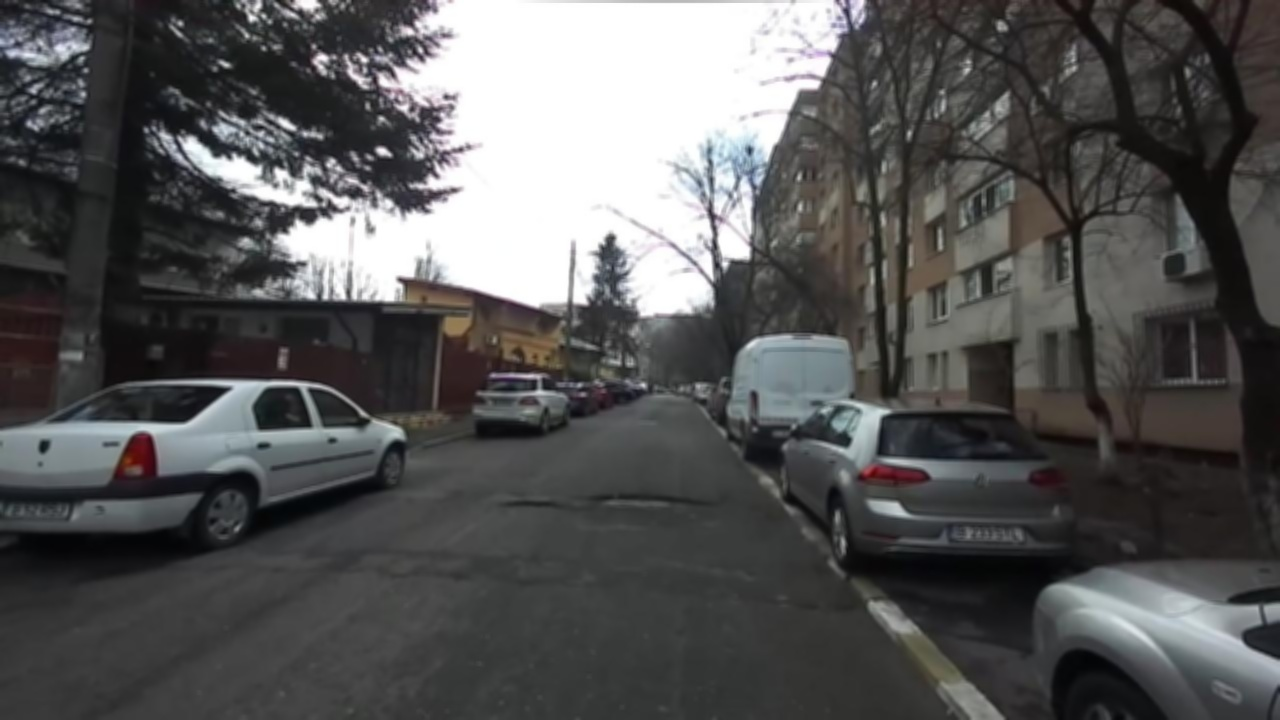pothole: (581, 490, 716, 512), (767, 591, 850, 614), (497, 496, 565, 509)
